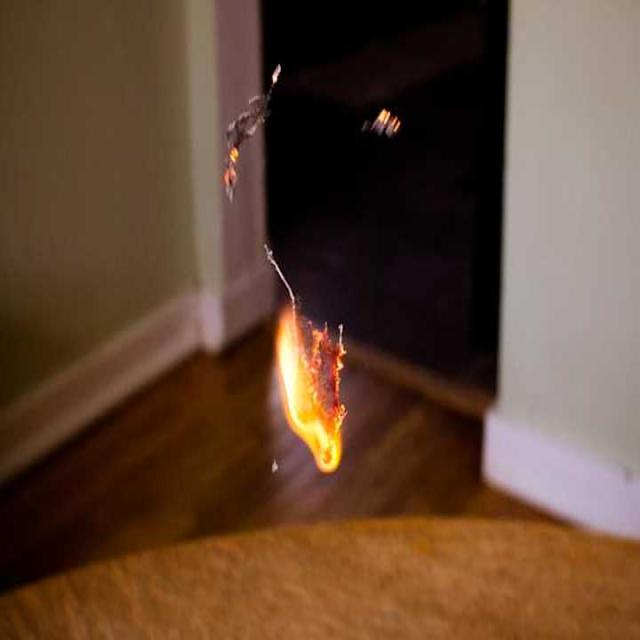fire: (272, 298, 348, 476)
